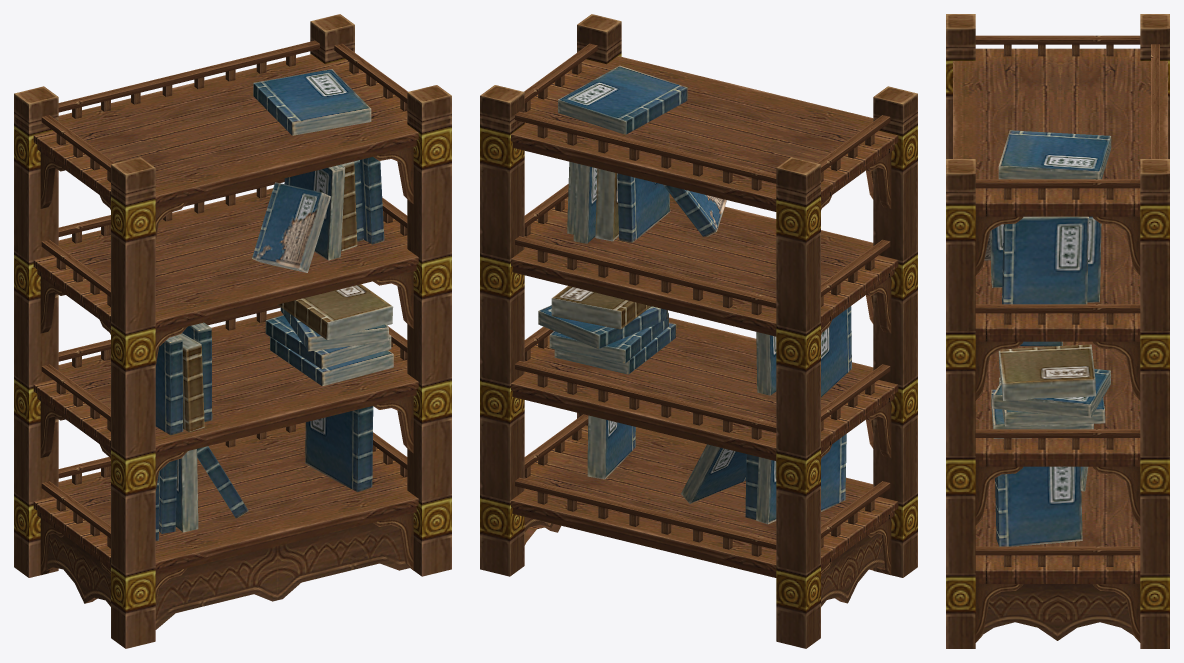
The model's file is Stage_DiXiaCheng_ShuJia.FBX.
The picture shows the model from 3 angles, left to right: view 1: azimuth 30°, elevation 25°; view 2: azimuth 150°, elevation 25°; view 3: azimuth 270°, elevation 25°; orthographic projection.
Visible parts, largest first — view 1: Stage_DiXiaCheng_ShuJia; view 2: Stage_DiXiaCheng_ShuJia; view 3: Stage_DiXiaCheng_ShuJia.
Part boxes in pixels (box(x1,y1,x2,y2)): Stage_DiXiaCheng_ShuJia: box(14, 14, 451, 648); Stage_DiXiaCheng_ShuJia: box(480, 14, 917, 648); Stage_DiXiaCheng_ShuJia: box(946, 14, 1169, 648).
Bounding box in the file's own units: 266 × 370 × 158.
